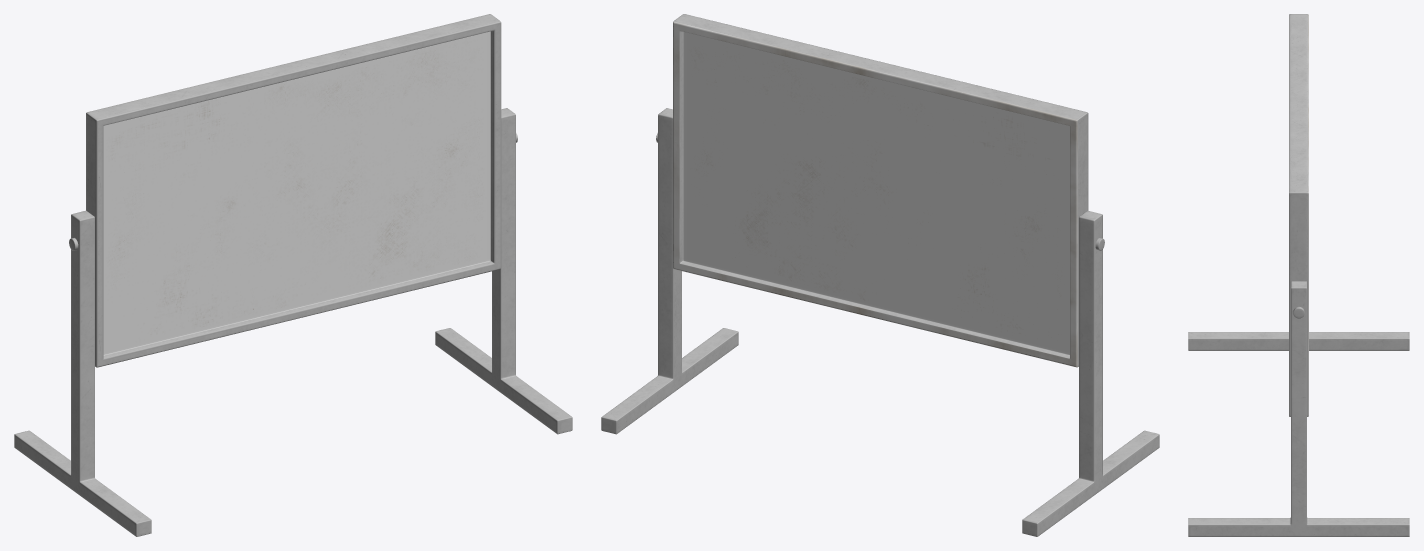
Rendered from whiteboardStand_obj.glb.
The picture shows the model from 3 angles, left to right: view 1: azimuth 30°, elevation 25°; view 2: azimuth 150°, elevation 25°; view 3: azimuth 270°, elevation 25°; orthographic projection. The views are drawn at different scales.
Visible parts, largest first — view 1: whiteboard_geo, hori_leg_R_geo, hori_leg_L_geo; view 2: whiteboard_geo, hori_leg_R_geo, hori_leg_L_geo; view 3: hori_leg_L_geo, whiteboard_geo, hori_leg_R_geo.
Part boxes in pixels (<box>): whiteboard_geo: <box>86,14,501,367</box>; hori_leg_R_geo: <box>14,210,151,536</box>; hori_leg_L_geo: <box>435,108,572,434</box>; whiteboard_geo: <box>673,14,1088,367</box>; hori_leg_R_geo: <box>1022,210,1159,536</box>; hori_leg_L_geo: <box>601,108,738,434</box>; hori_leg_L_geo: <box>1188,281,1409,536</box>; whiteboard_geo: <box>1289,14,1308,416</box>; hori_leg_R_geo: <box>1188,332,1409,350</box>.
Size of the model in its own units: 0.0837 by 0.0673 by 0.04.
Materials: 1 (1 with a texture image).
